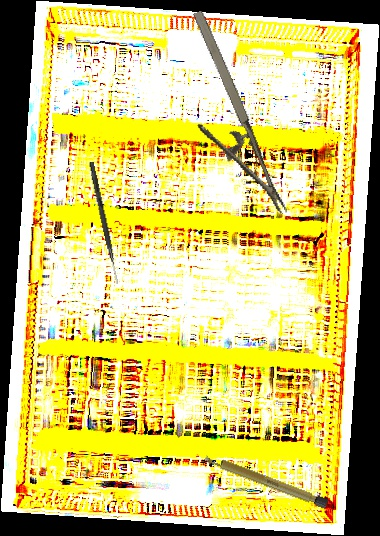Hook Surgical: (87, 161, 122, 285)
Needle Holder: (159, 7, 288, 232)
Scalpel Handle: (203, 452, 329, 509)
